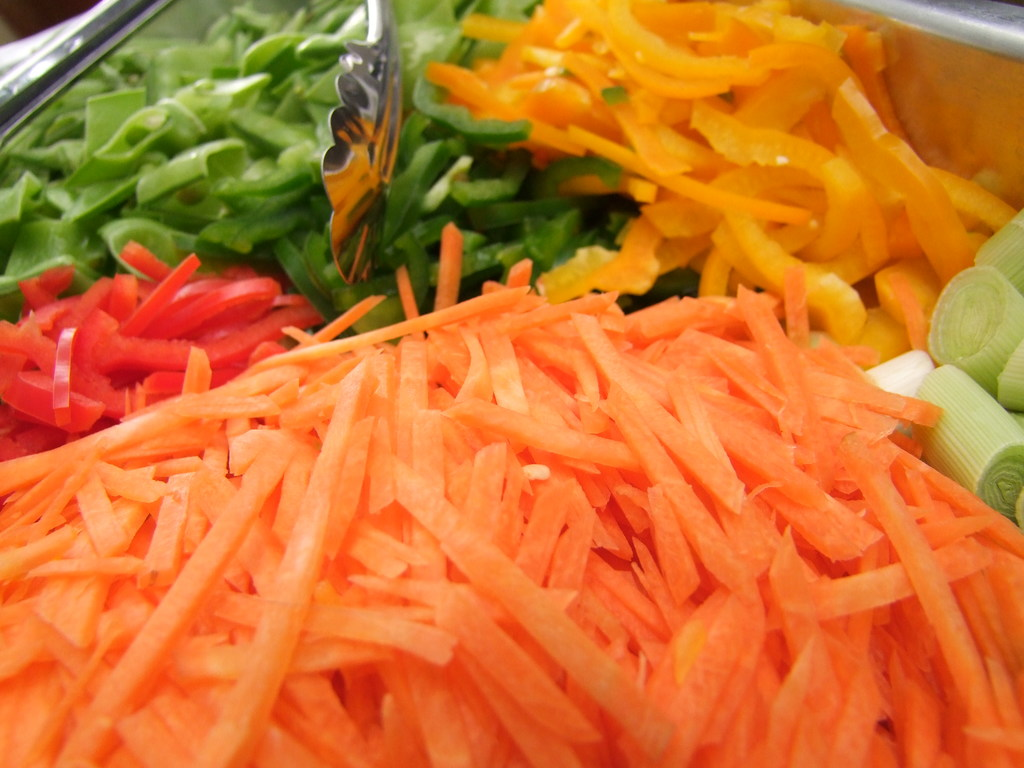Carrot: (0, 221, 1024, 768)
